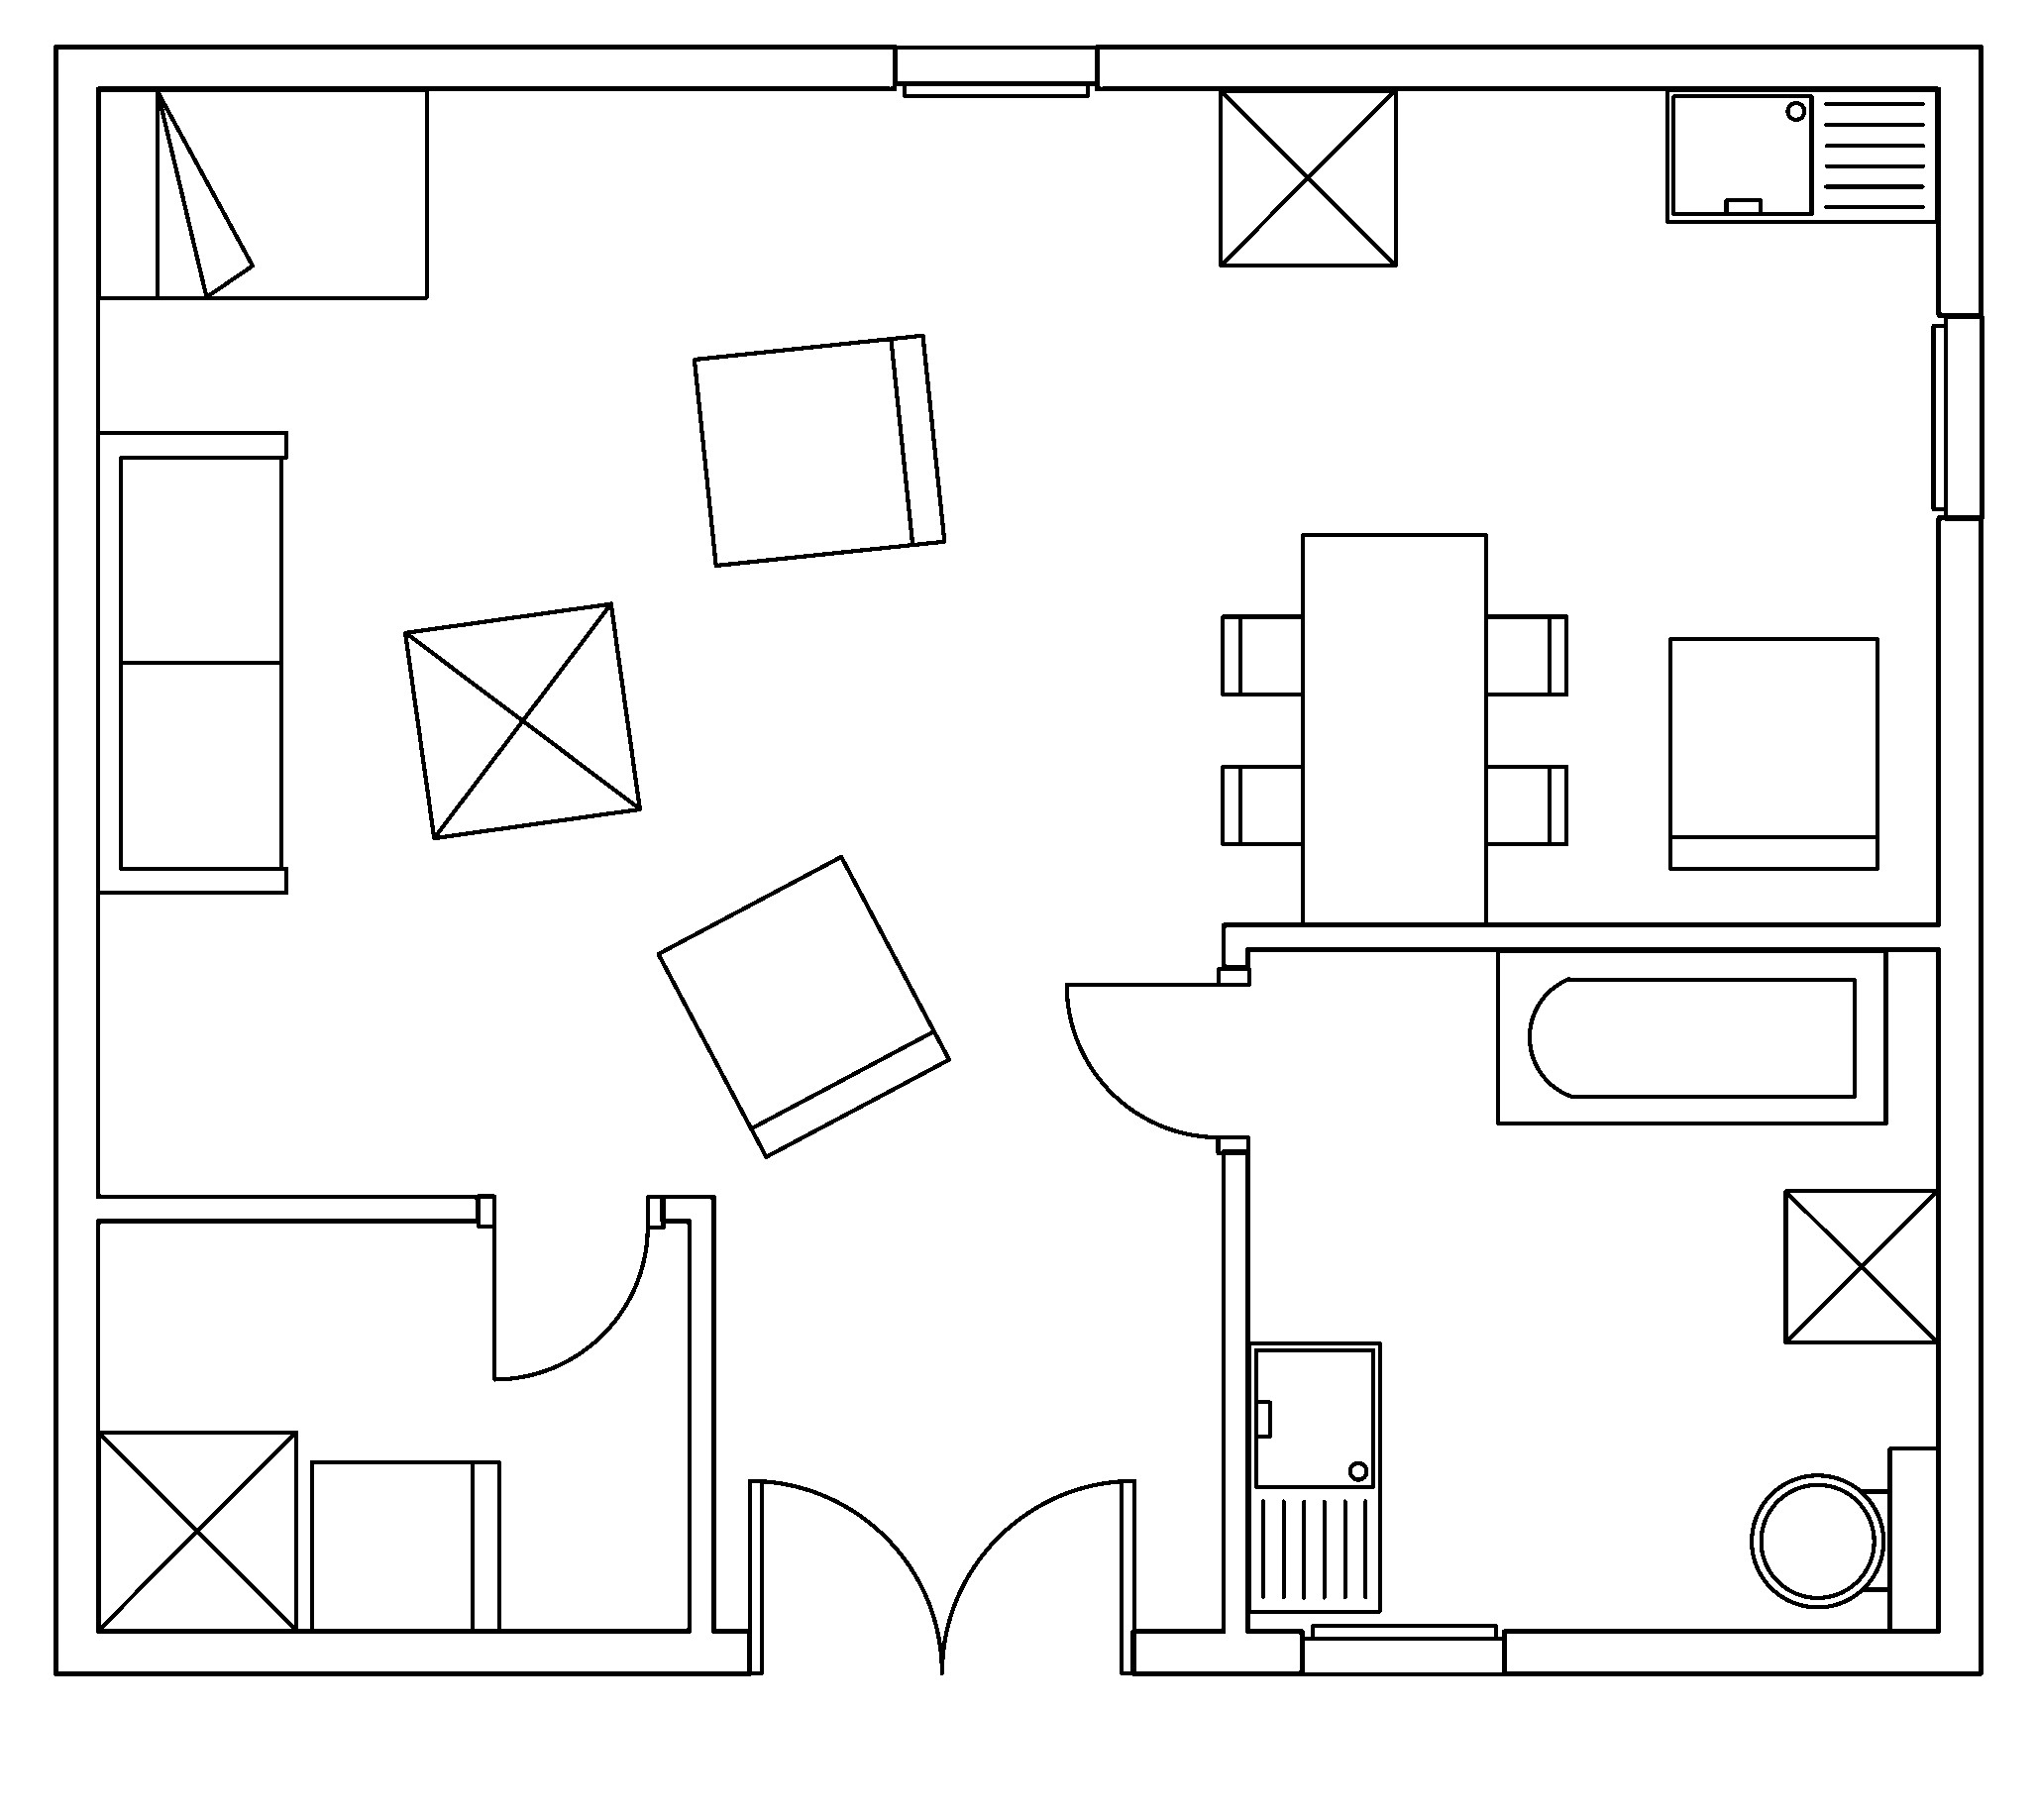bed: (95, 86, 428, 300)
coffee_table: (402, 599, 643, 840), (95, 1428, 299, 1632), (1217, 86, 1398, 267), (1781, 1188, 1940, 1344)
dining_table: (1219, 531, 1568, 926)
large_sink: (1749, 1444, 1940, 1632)
large_sofa: (95, 429, 290, 894)
sink: (1663, 86, 1940, 223), (1245, 1339, 1382, 1614)
small_sofa: (653, 854, 952, 1159), (690, 332, 947, 567), (1666, 636, 1879, 871), (307, 1458, 500, 1632)
tub: (1494, 947, 1888, 1126)
